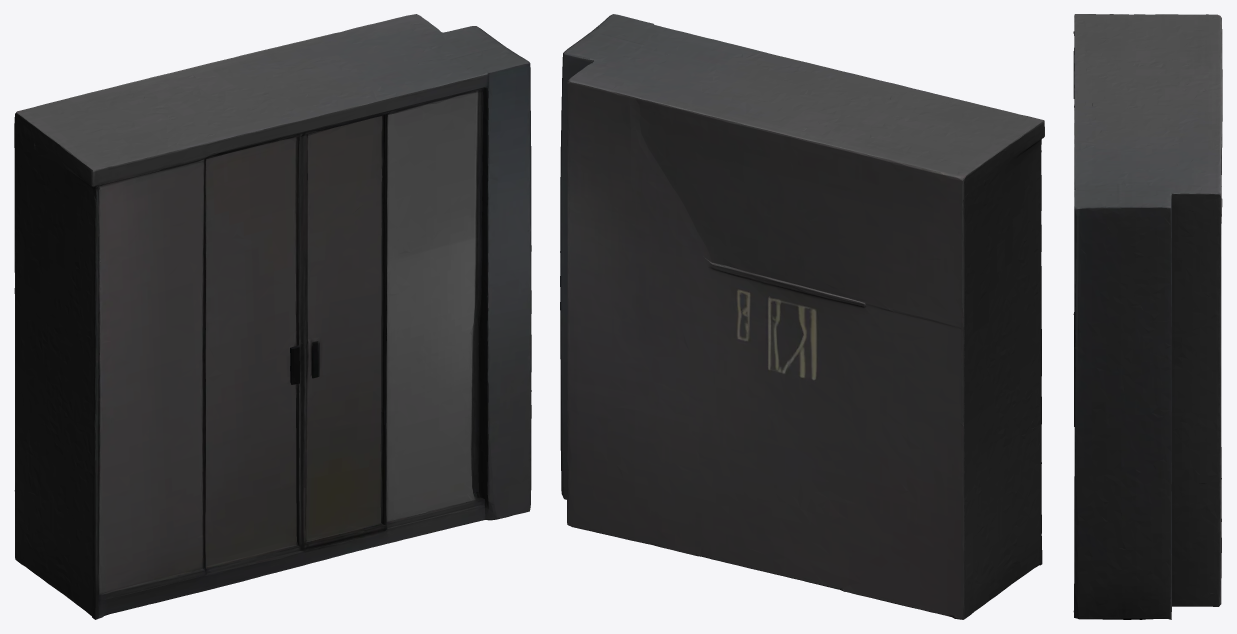
The model's file is ast_e7dddcb4b337.glb.
3 renders of one model, left to right at view 1: azimuth 30°, elevation 25°; view 2: azimuth 150°, elevation 25°; view 3: azimuth 270°, elevation 25°, orthographic. The views are drawn at different scales.
Parts seen in each view (by area): view 1: geometry_0; view 2: geometry_0; view 3: geometry_0.
Boxes of the visible parts, box(x1,y1,x2,y2) form: geometry_0: box(14, 14, 531, 619); geometry_0: box(560, 14, 1044, 619); geometry_0: box(1073, 14, 1222, 619).
Bounding box in the file's own units: 0.9997 × 0.9825 × 0.3208.
Materials: 1 (1 with a texture image).
